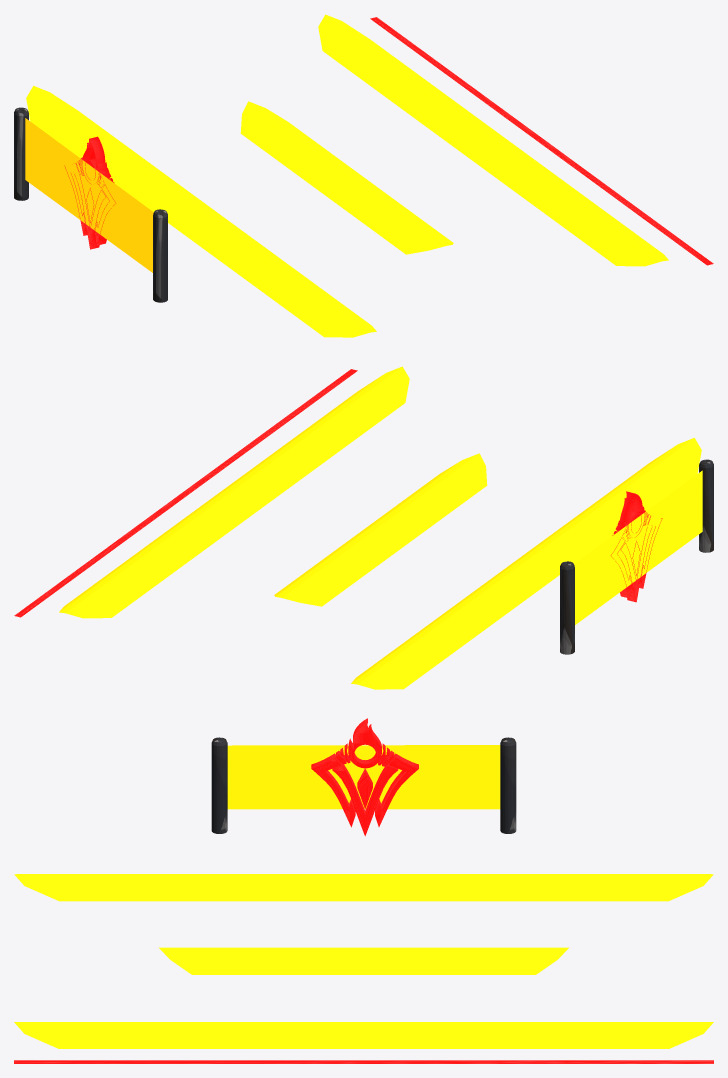
Rendered from track1Edge.glb.
3 renders of one model, top to bottom at view 1: azimuth 30°, elevation 25°; view 2: azimuth 150°, elevation 25°; view 3: azimuth 270°, elevation 25°, orthographic. The views are drawn at different scales.
Parts seen in each view (by area): view 1: Plane.007; view 2: Plane.007; view 3: Plane.007.
Part boxes in pixels (<box>): Plane.007: <box>14,14,713,337</box>; Plane.007: <box>14,366,713,689</box>; Plane.007: <box>14,718,713,1063</box>.
Size of the model in its own units: 1.58 by 0.3638 by 2.
3 materials, 2 textured.
